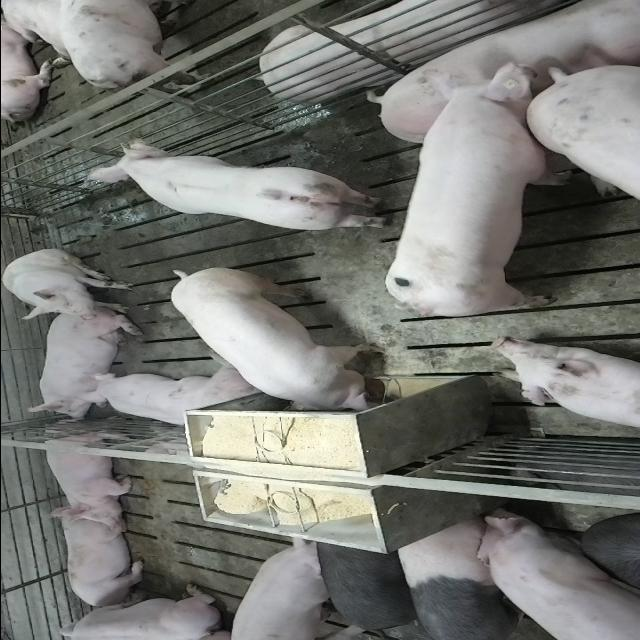Feeding: (168, 272, 390, 422)
Lateral_lying: (256, 0, 628, 102)
Sitting: (2, 249, 138, 321)
Standing: (381, 63, 569, 318), (80, 137, 388, 233), (470, 508, 640, 638), (396, 513, 562, 638), (521, 57, 639, 229), (225, 533, 350, 640), (308, 534, 419, 638)
Sternal_lying: (489, 338, 640, 434), (24, 314, 134, 423), (80, 368, 262, 430), (43, 584, 227, 637), (37, 425, 135, 524), (51, 511, 148, 609)
